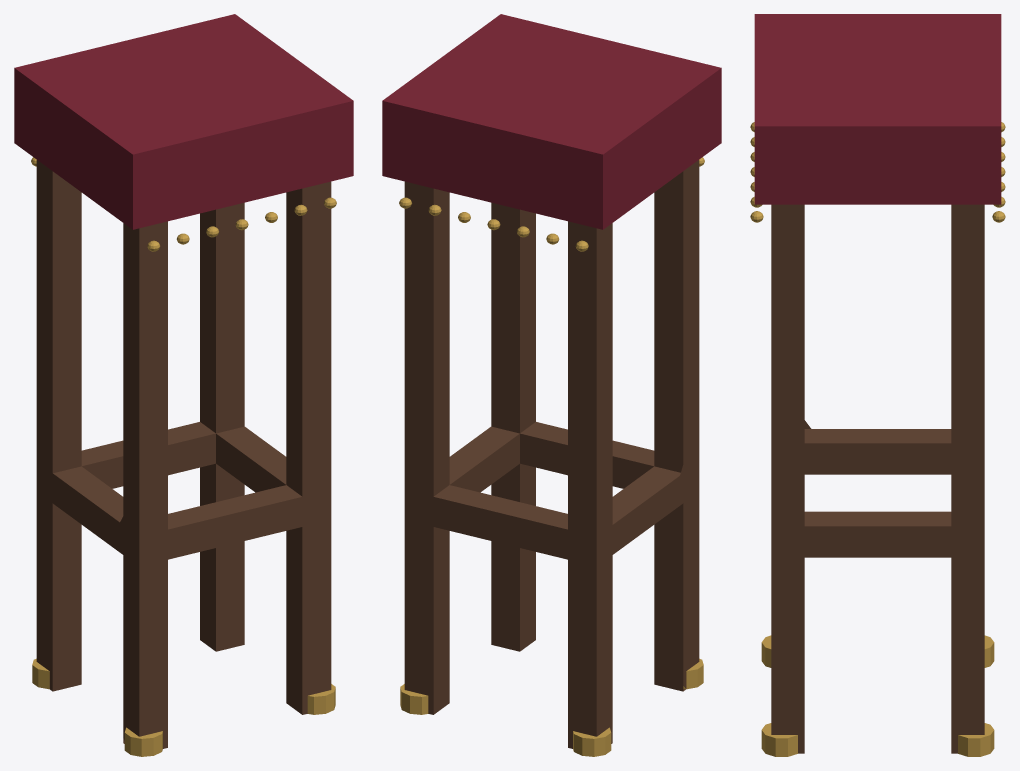
Rendered from stoolBarSquare.glb.
3 views of the same model, side by side, from view 1: azimuth 30°, elevation 25°; view 2: azimuth 150°, elevation 25°; view 3: azimuth 270°, elevation 25° (orthographic). The views are drawn at different scales.
Visible parts, largest first — view 1: stoolBarSquare(Clone); view 2: stoolBarSquare(Clone); view 3: stoolBarSquare(Clone).
Boxes of the visible parts, x1,y1,x2,y2 form: stoolBarSquare(Clone): (14, 14, 353, 756); stoolBarSquare(Clone): (382, 14, 721, 756); stoolBarSquare(Clone): (750, 14, 1005, 756).
Bounding box in the file's own units: 0.1535 × 0.405 × 0.1476.
